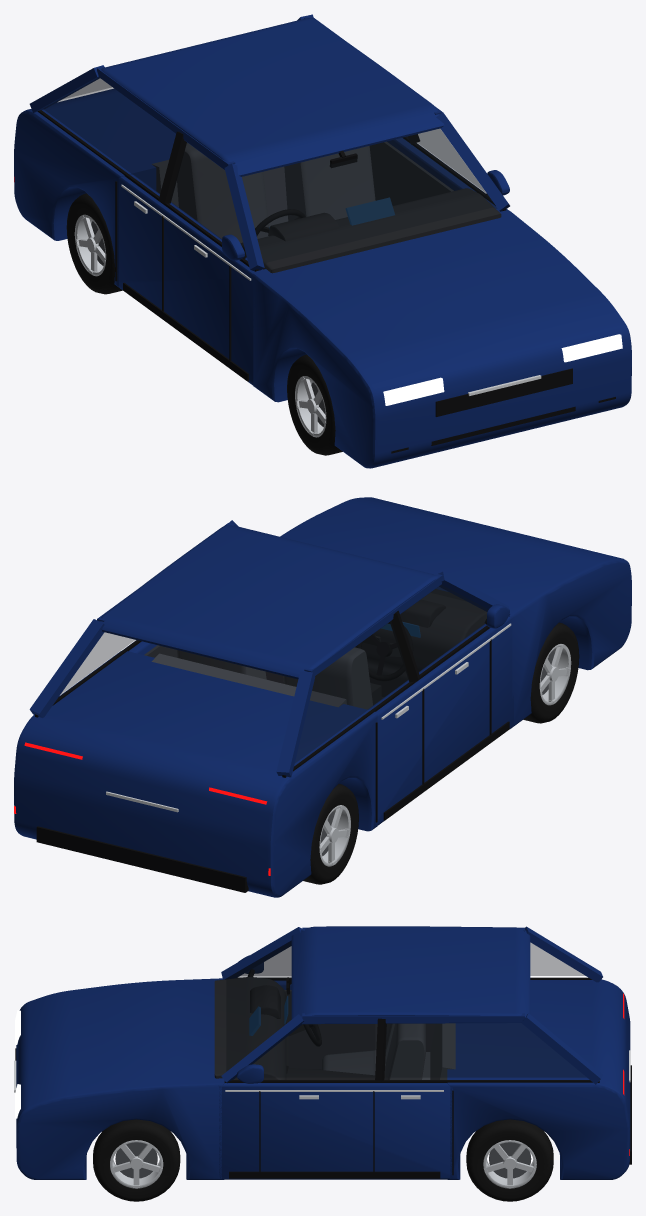
Rendered from car.glb.
3 renders of one model, top to bottom at view 1: azimuth 30°, elevation 25°; view 2: azimuth 150°, elevation 25°; view 3: azimuth 270°, elevation 25°, orthographic. The views are drawn at different scales.
Visible parts, largest first — view 1: body_paint_blue, glass_glass, interior_seat_fabric, interior_dash_dark, body_trim_black, body_door_card, wheel_fr_tire_rubber, wheel_rr_tire_rubber, body_headlight, body_seat_fabric, wheel_rr_wheel_alloy, wheel_fr_wheel_alloy (+4 smaller); view 2: body_paint_blue, glass_glass, body_trim_black, interior_dash_dark, interior_seat_fabric, wheel_rr_tire_rubber, wheel_fr_tire_rubber, body_seat_fabric, wheel_rr_wheel_alloy, wheel_fr_wheel_alloy, interior_plastic_dark, body_chrome (+1 smaller); view 3: body_paint_blue, glass_glass, interior_dash_dark, body_trim_black, wheel_rl_tire_rubber, wheel_fl_tire_rubber, interior_seat_fabric, body_door_card, interior_plastic_dark, body_seat_fabric, wheel_fl_wheel_alloy, wheel_rl_wheel_alloy (+3 smaller).
Part boxes in pixels (x1,y1,x2,y2): body_paint_blue: (14,14,631,468); glass_glass: (43,77,497,264); interior_seat_fabric: (177,143,375,242); interior_dash_dark: (240,188,501,273); body_trim_black: (37,110,615,453); body_door_card: (369,141,453,205); wheel_fr_tire_rubber: (287,354,342,455); wheel_rr_tire_rubber: (66,193,122,294); body_headlight: (383,334,622,405); body_seat_fabric: (152,160,288,226); wheel_rr_wheel_alloy: (74,214,106,276); wheel_fr_wheel_alloy: (295,376,326,437); body_paint_blue: (14,497,631,897); glass_glass: (60,585,488,762); body_trim_black: (35,610,509,892); interior_dash_dark: (355,589,487,696); interior_seat_fabric: (177,647,372,709); wheel_rr_tire_rubber: (303,784,358,884); wheel_fr_tire_rubber: (523,622,579,723); body_seat_fabric: (151,653,346,707); wheel_rr_wheel_alloy: (319,805,350,866); wheel_fr_wheel_alloy: (539,644,571,705); interior_plastic_dark: (363,599,445,656); body_chrome: (106,623,511,812); body_paint_blue: (16,926,630,1179); glass_glass: (225,941,586,1077); interior_dash_dark: (214,977,286,1079); body_trim_black: (15,969,631,1178); wheel_rl_tire_rubber: (466,1119,553,1201); wheel_fl_tire_rubber: (93,1119,180,1201); interior_seat_fabric: (321,1023,425,1079); body_door_card: (284,990,435,1068); interior_plastic_dark: (250,985,375,1079); body_seat_fabric: (422,1023,455,1079); wheel_fl_wheel_alloy: (110,1140,163,1188); wheel_rl_wheel_alloy: (483,1140,536,1188).
Bounding box in the file's own units: 1.9 × 1.44 × 4.38.
